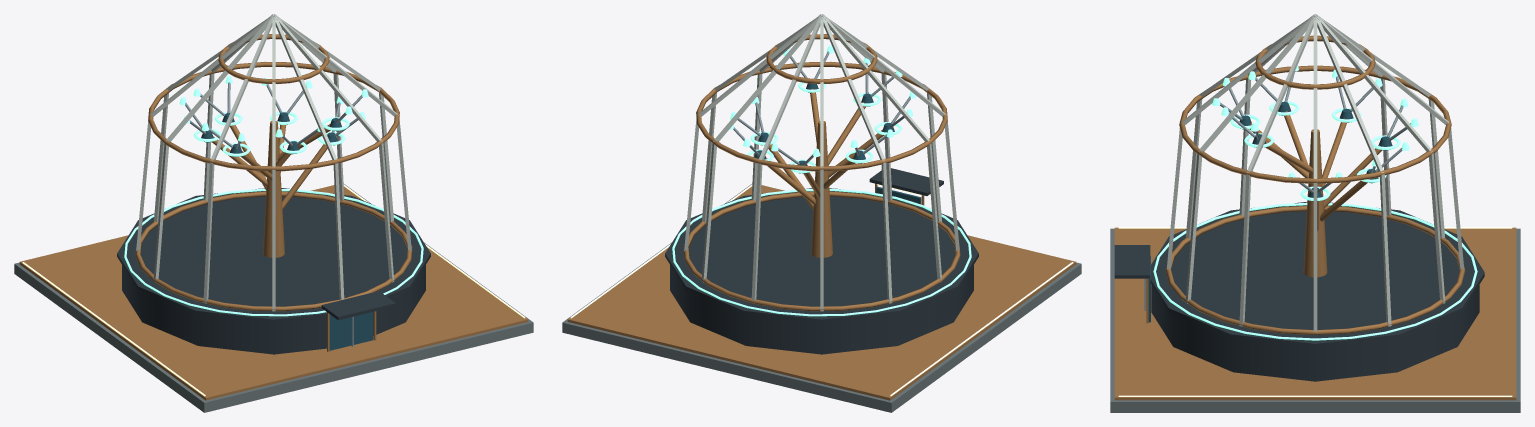
Rendered from knowledge-atrium.lod1.glb.
3 views of the same model, side by side, from view 1: azimuth 30°, elevation 25°; view 2: azimuth 150°, elevation 25°; view 3: azimuth 270°, elevation 25° (orthographic). The views are drawn at different scales.
Parts seen in each view (by area): view 1: structure; view 2: structure; view 3: structure.
Boxes of the visible parts, x1,y1,x2,y2 form: structure: (14,14,533,412); structure: (562,14,1081,412); structure: (1110,14,1520,412).
Size of the model in its own units: 24 by 20.08 by 24.
